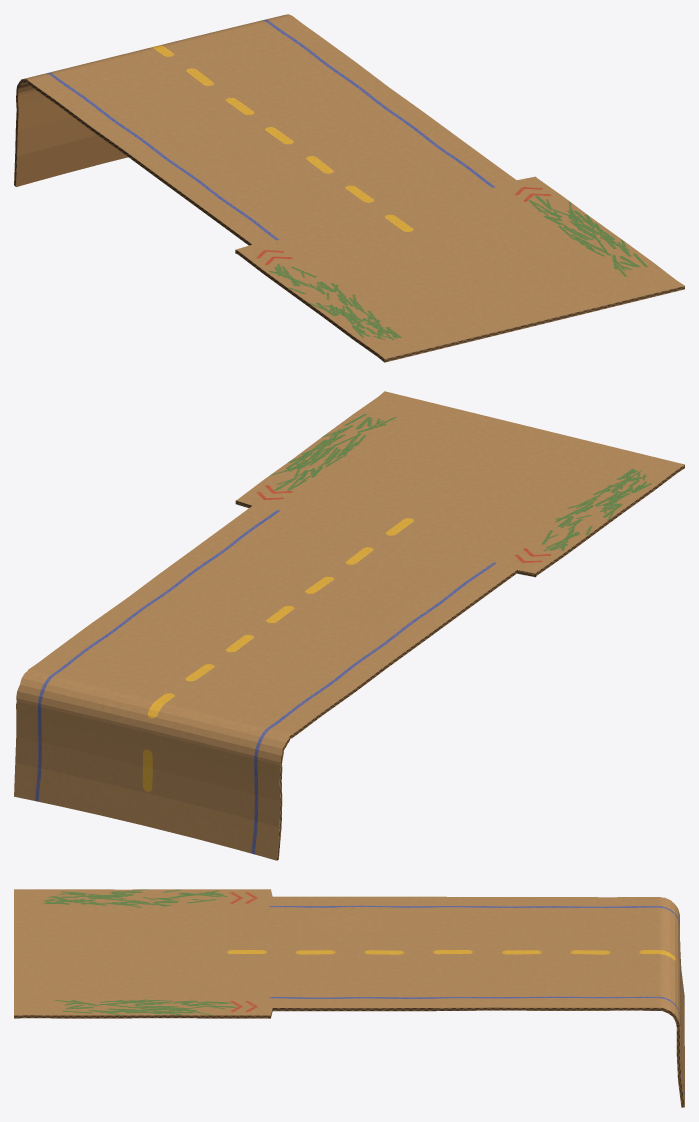
File: desk-runway-droop.fbx
3 renders of one model, top to bottom at view 1: azimuth 30°, elevation 25°; view 2: azimuth 150°, elevation 25°; view 3: azimuth 270°, elevation 25°, orthographic. The views are drawn at different scales.
Visible parts, largest first — view 1: desk-runway-droop; view 2: desk-runway-droop; view 3: desk-runway-droop.
Boxes of the visible parts, x1,y1,x2,y2 form: desk-runway-droop: [14, 14, 684, 362]; desk-runway-droop: [14, 391, 684, 860]; desk-runway-droop: [14, 889, 684, 1107].
Bounding box in the file's own units: 10000 × 3717 × 22465.
Materials: 1 (1 with a texture image).
